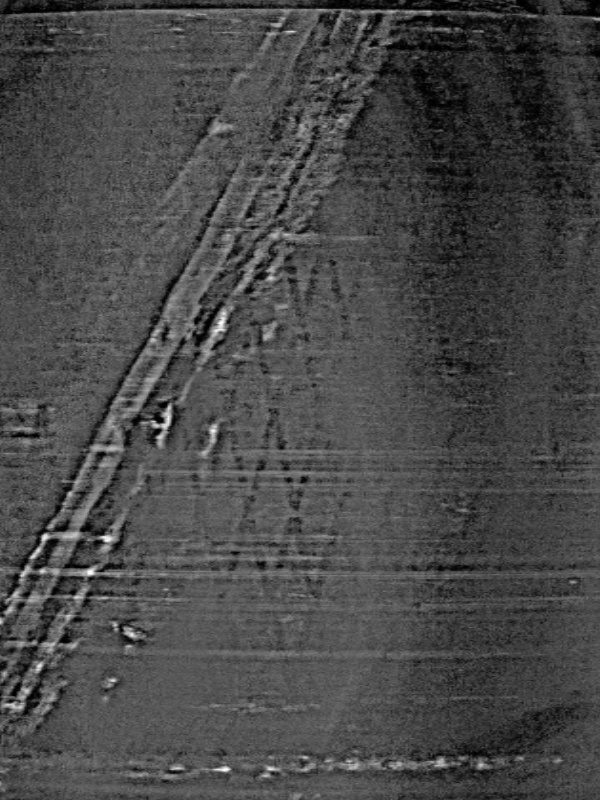splice_vulcanized: (1, 9, 415, 742)
